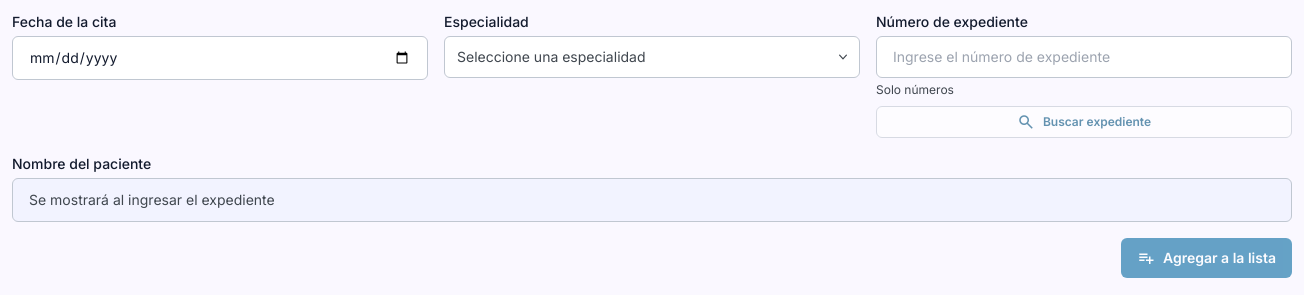
Test case: FormularioCita › distingue un error de integración (502) de un 404
Type "999999999999" into the field labelled "Número de expediente Solo números" at (1084, 57), box [876,36,1292,78]
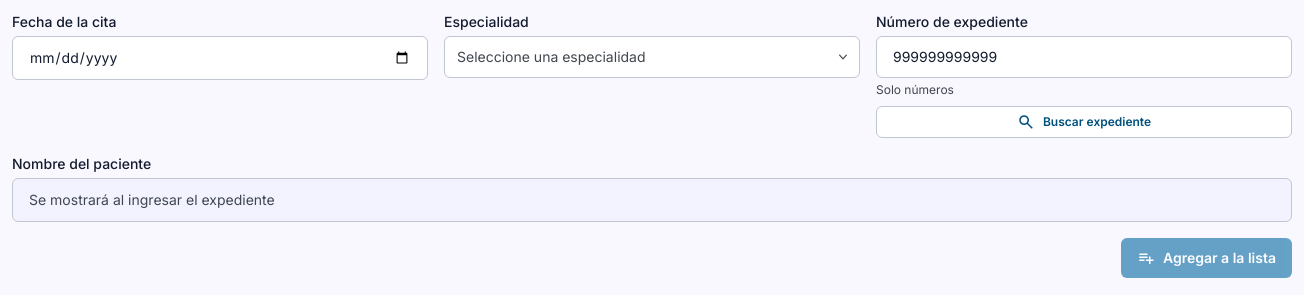
Click the button "Buscar expediente" at (1084, 122), box [876,106,1292,138]
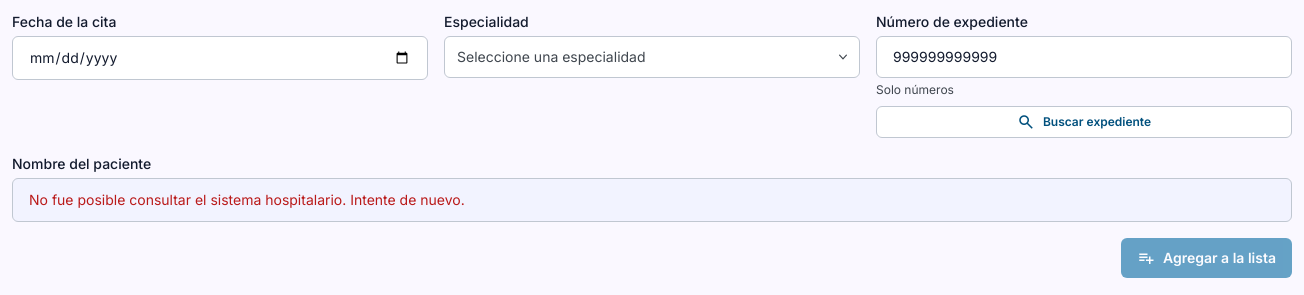
Expected: the message reads "No fue posible consultar el sistema hospitalario. Intente de nuevo.", [29,191,465,208]
